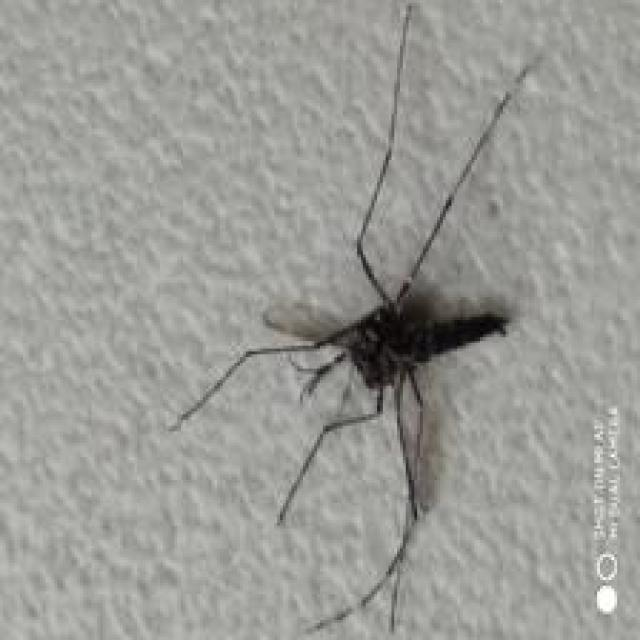Aedes albopictus: (167, 1, 547, 636)
